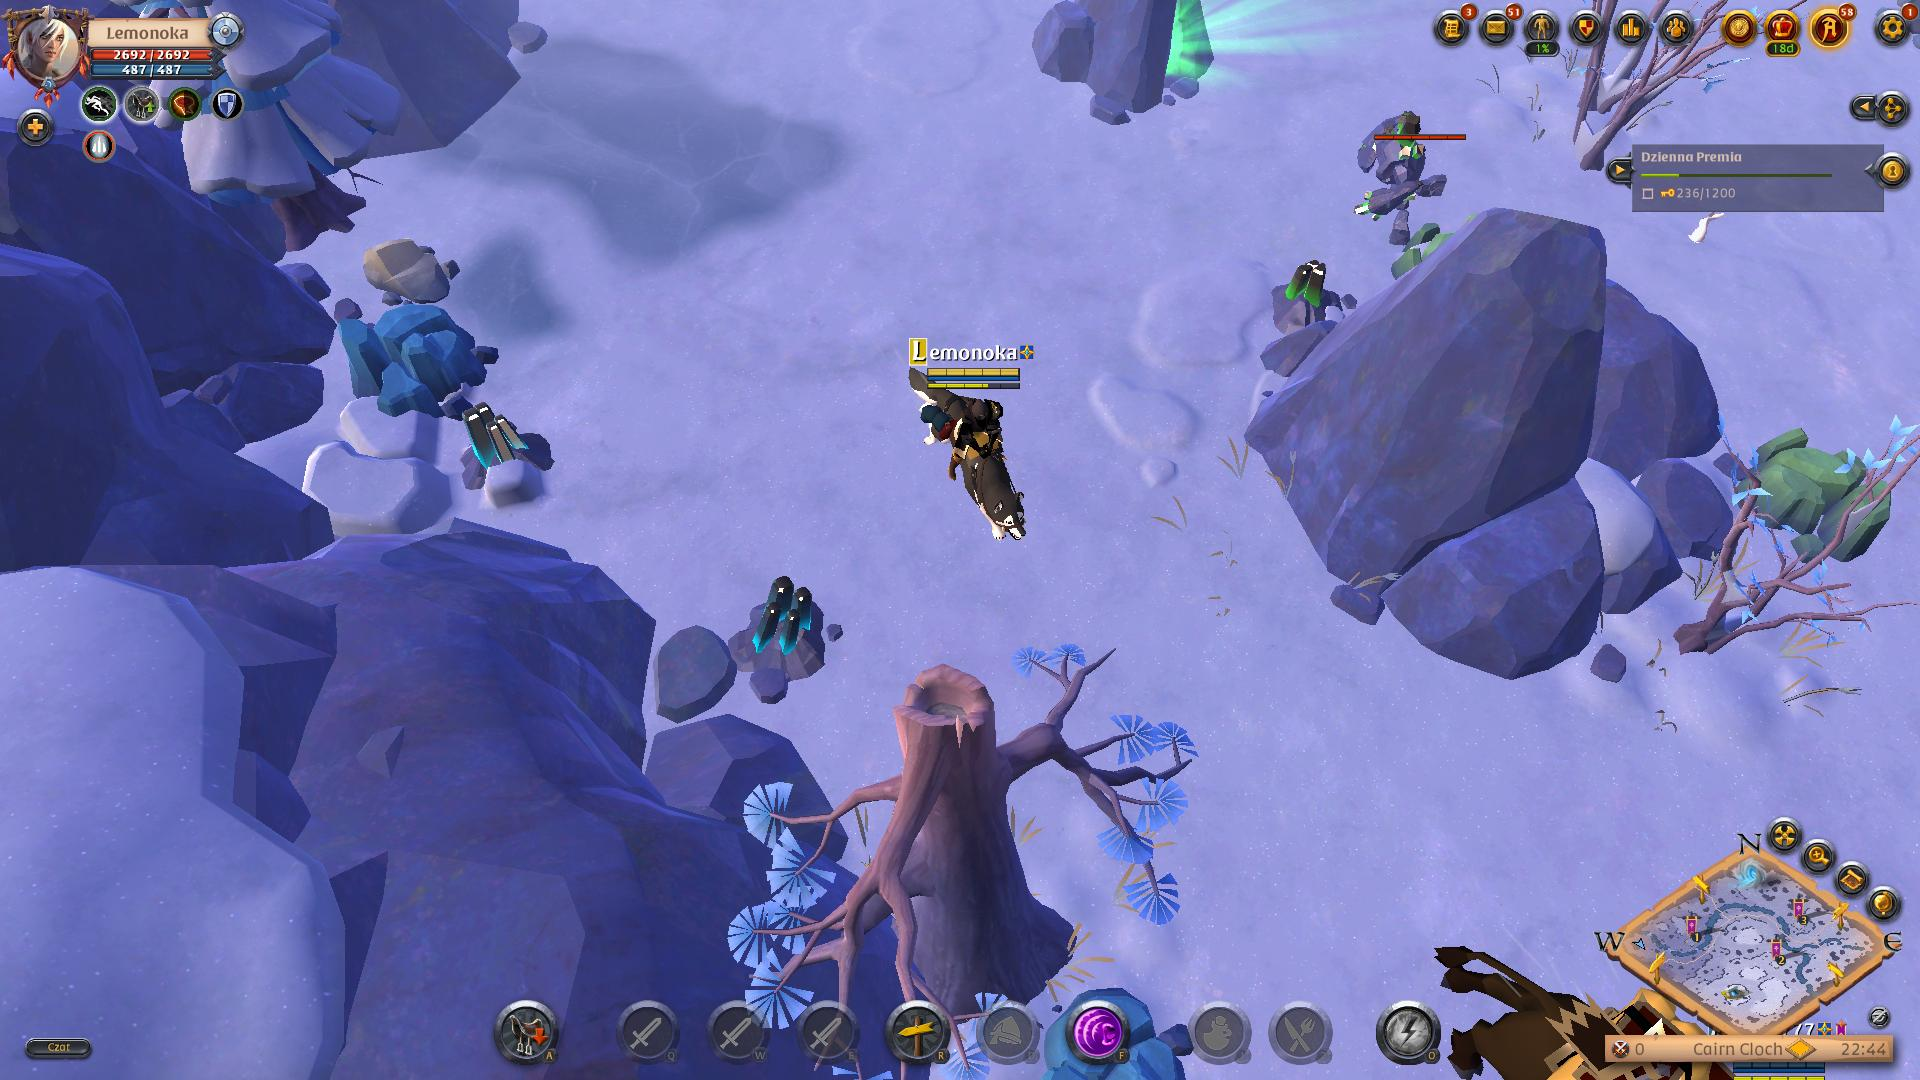ore tier 3: (1258, 251, 1346, 344)
ore tier 4: (731, 576, 835, 686), (456, 401, 560, 506)
rock tier 1: (361, 236, 463, 307)
rock tier 3: (1730, 423, 1866, 566)
rock tier 4: (339, 303, 500, 421)
